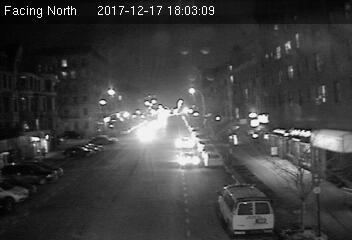car: (177, 152, 204, 169), (174, 135, 197, 152), (204, 151, 223, 168)
police: (217, 182, 275, 234)
